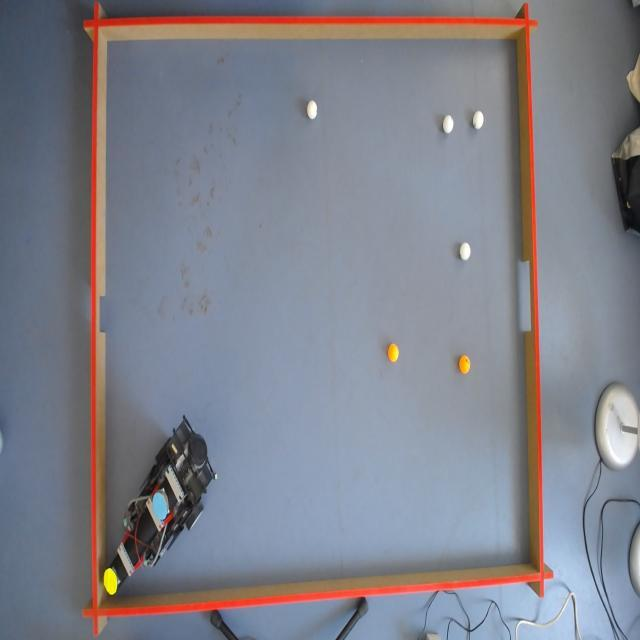orange: (389, 342, 401, 363), (460, 359, 472, 376)
robot: (105, 404, 205, 600)
robot-front: (104, 568, 118, 596)
robot-rear: (152, 492, 167, 520)
white: (458, 240, 472, 261), (443, 114, 456, 135), (473, 111, 486, 130), (306, 99, 317, 119)
